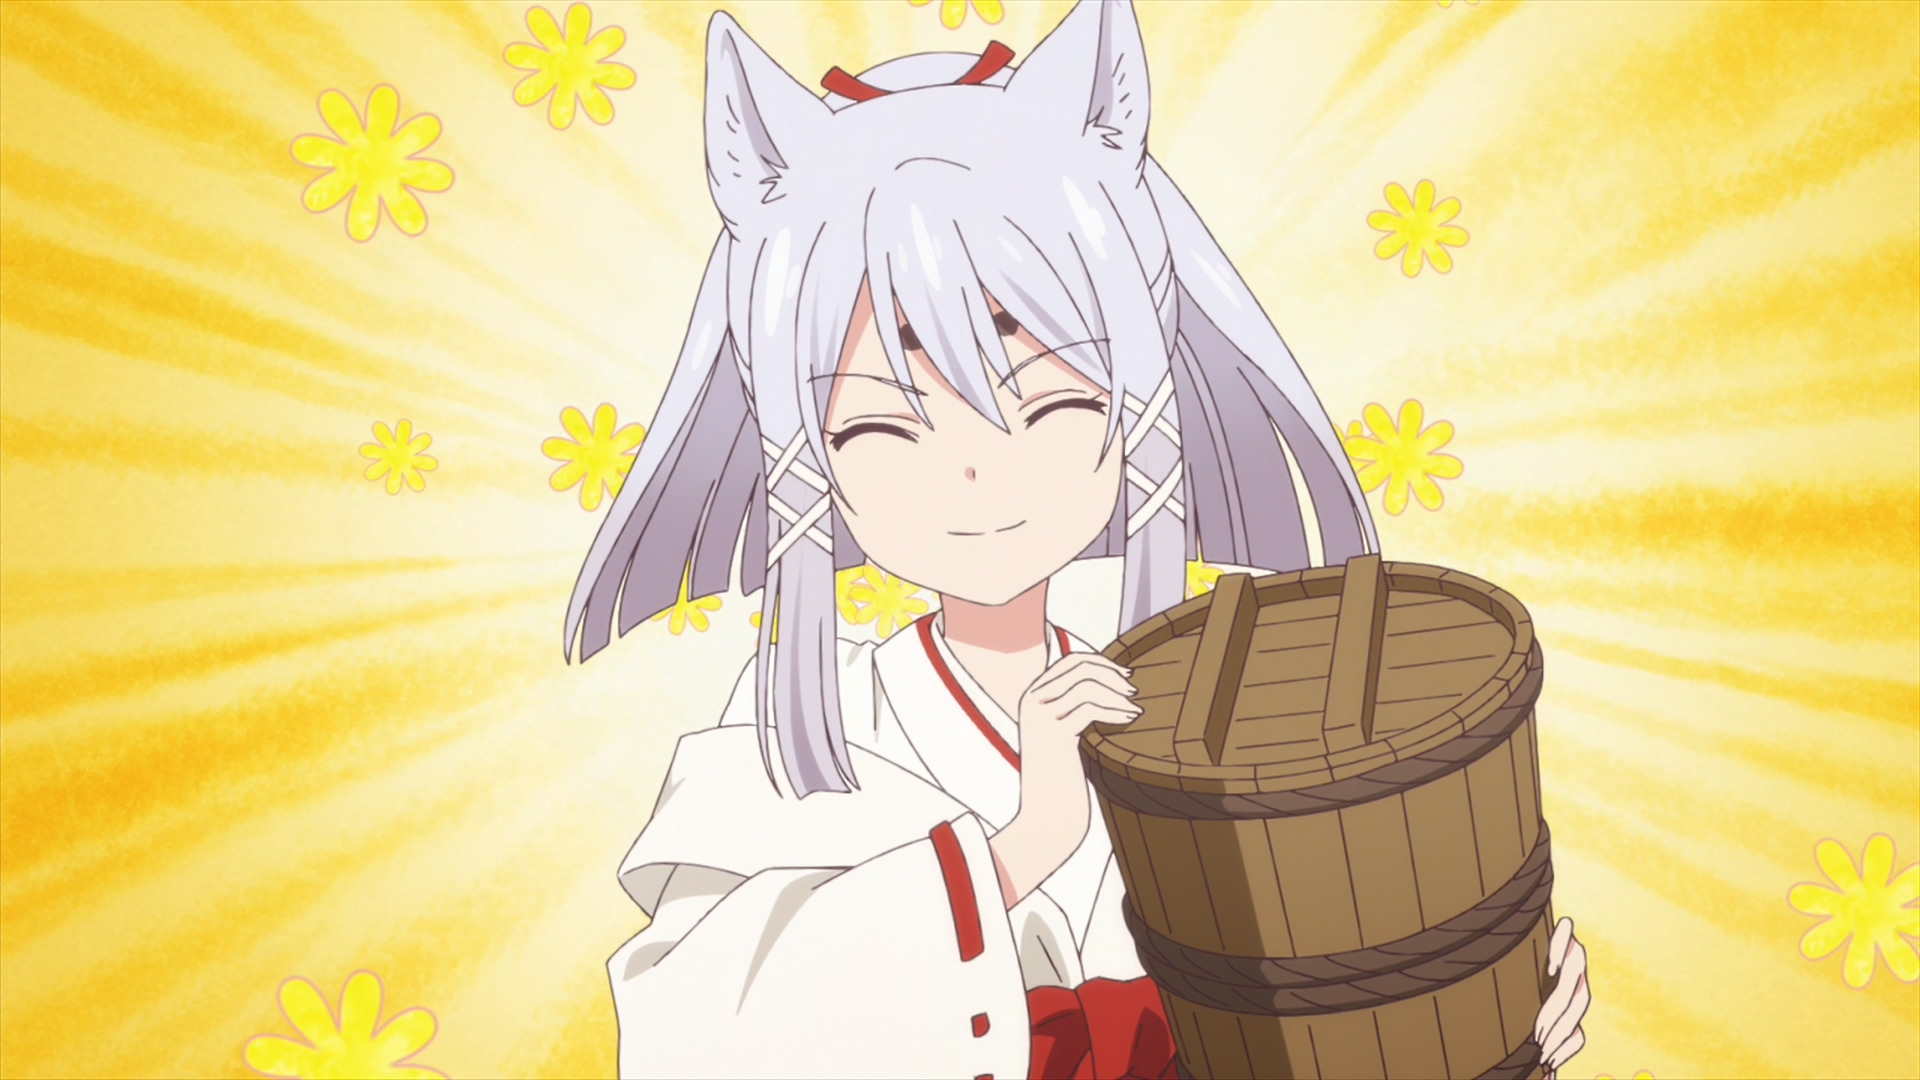柊: (564, 1, 1589, 1080)
